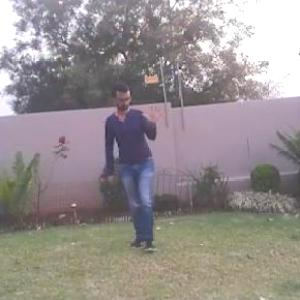follow_hand: (142, 102, 167, 126)
